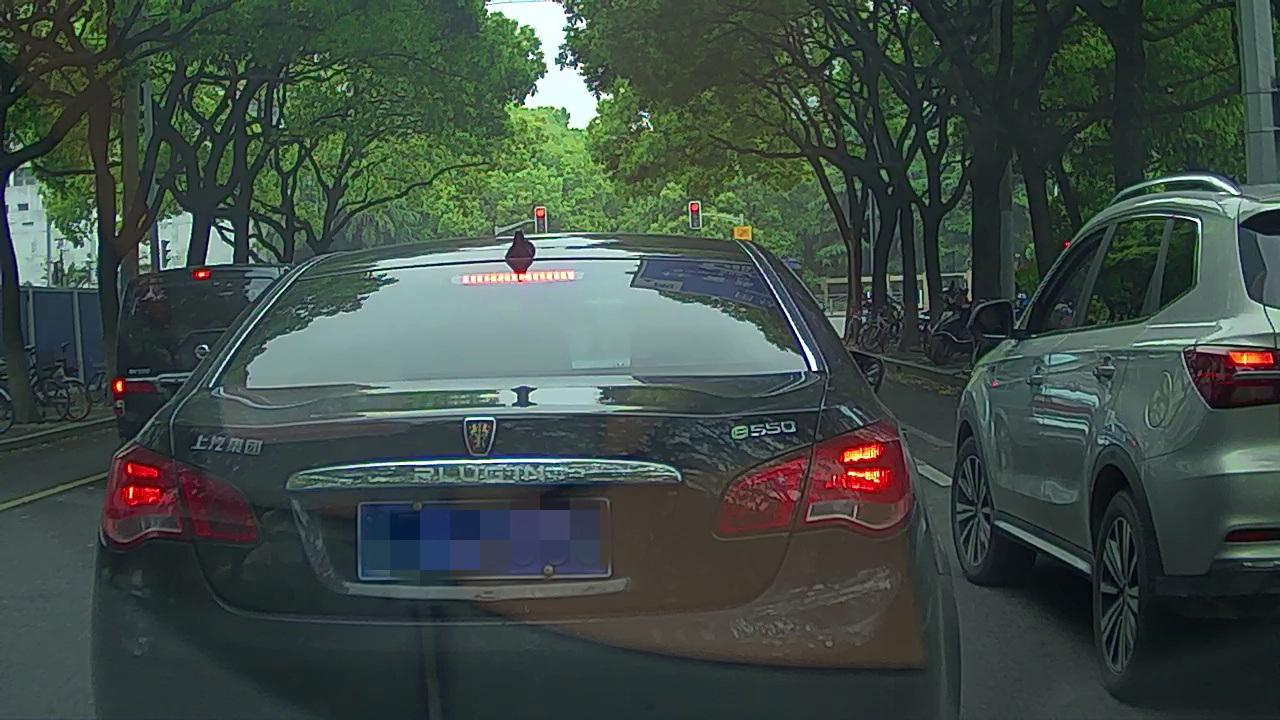traffic_light: (689, 203, 702, 228), (537, 209, 546, 233)
